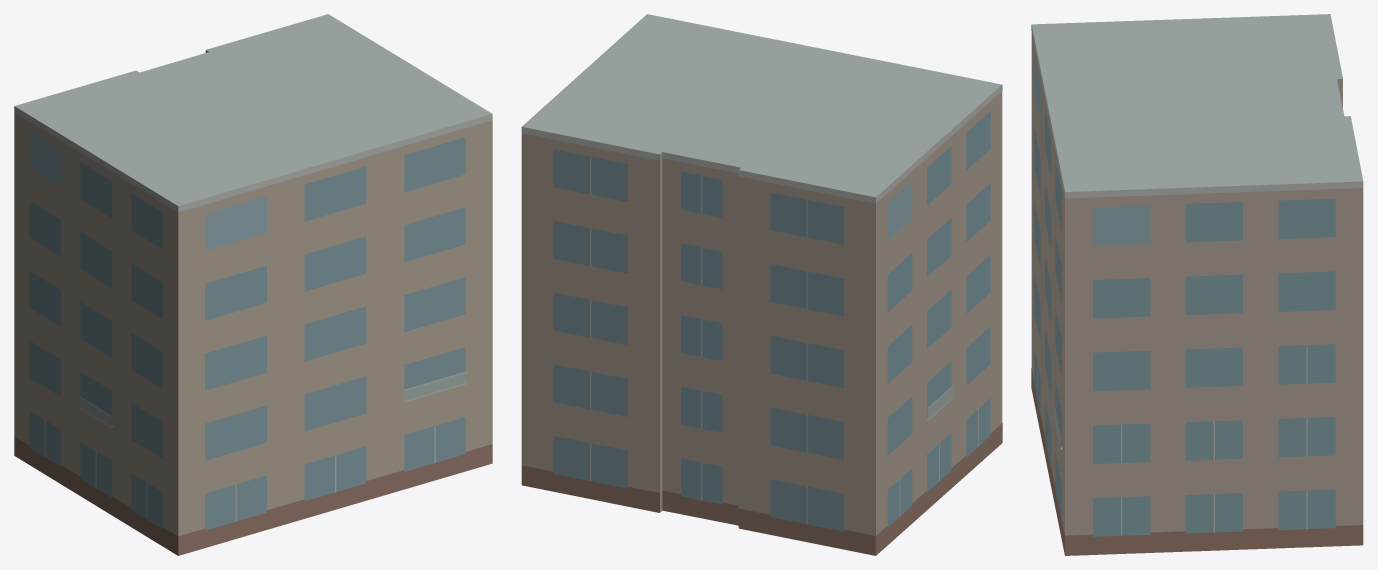
Rendered from survey-upis-32979616.glb.
The picture shows the model from 3 angles, left to right: view 1: azimuth 30°, elevation 25°; view 2: azimuth 150°, elevation 25°; view 3: azimuth 270°, elevation 25°; orthographic projection. The views are drawn at different scales.
Parts seen in each view (by area): view 1: survey-upis-32979616.tmp; view 2: survey-upis-32979616.tmp; view 3: survey-upis-32979616.tmp.
Boxes of the visible parts, x1=… form: survey-upis-32979616.tmp: x1=14, y1=14, x2=492, y2=555; survey-upis-32979616.tmp: x1=521, y1=14, x2=1002, y2=555; survey-upis-32979616.tmp: x1=1031, y1=14, x2=1363, y2=555.
Size of the model in its own units: 14.49 by 13.8 by 11.42.
